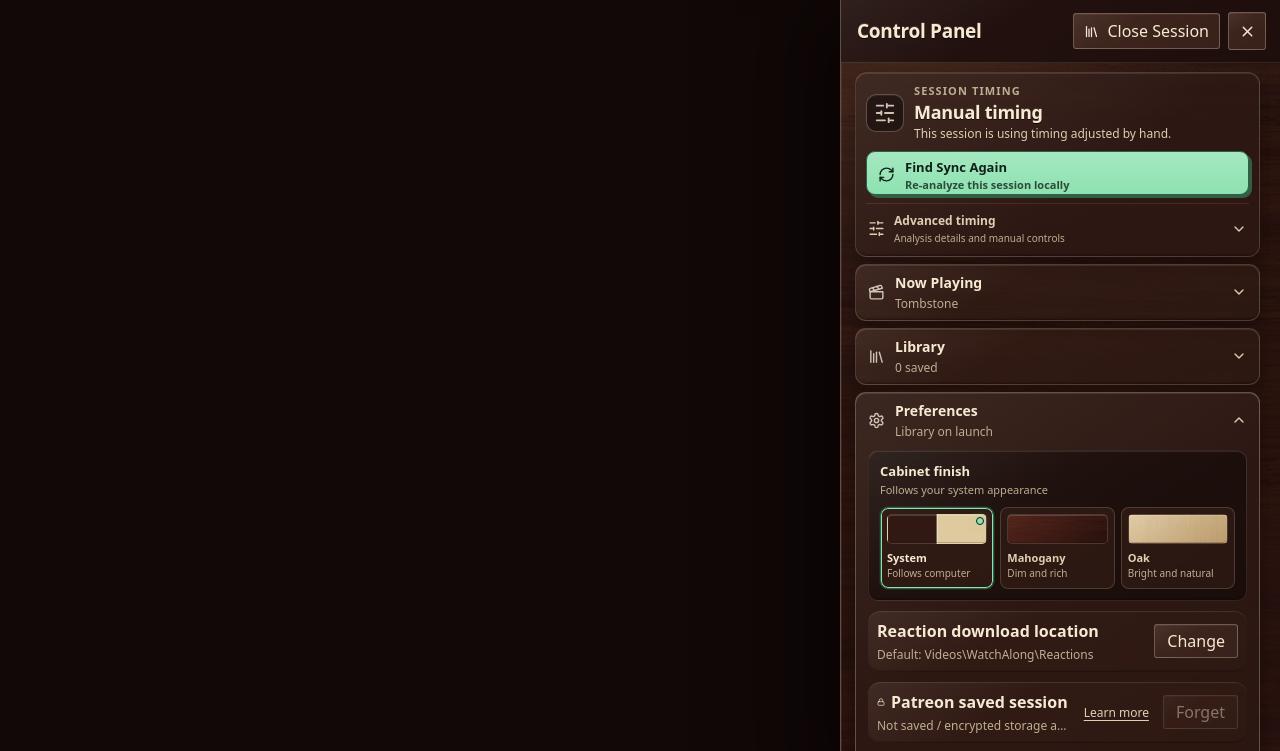
CommandPanel session timing › explains per-view library layouts and exposes Patreon details as a disclosure
Step 1. Click the button "Learn more" → (1116, 712), box [1078,697,1155,727]
(page scrolled)
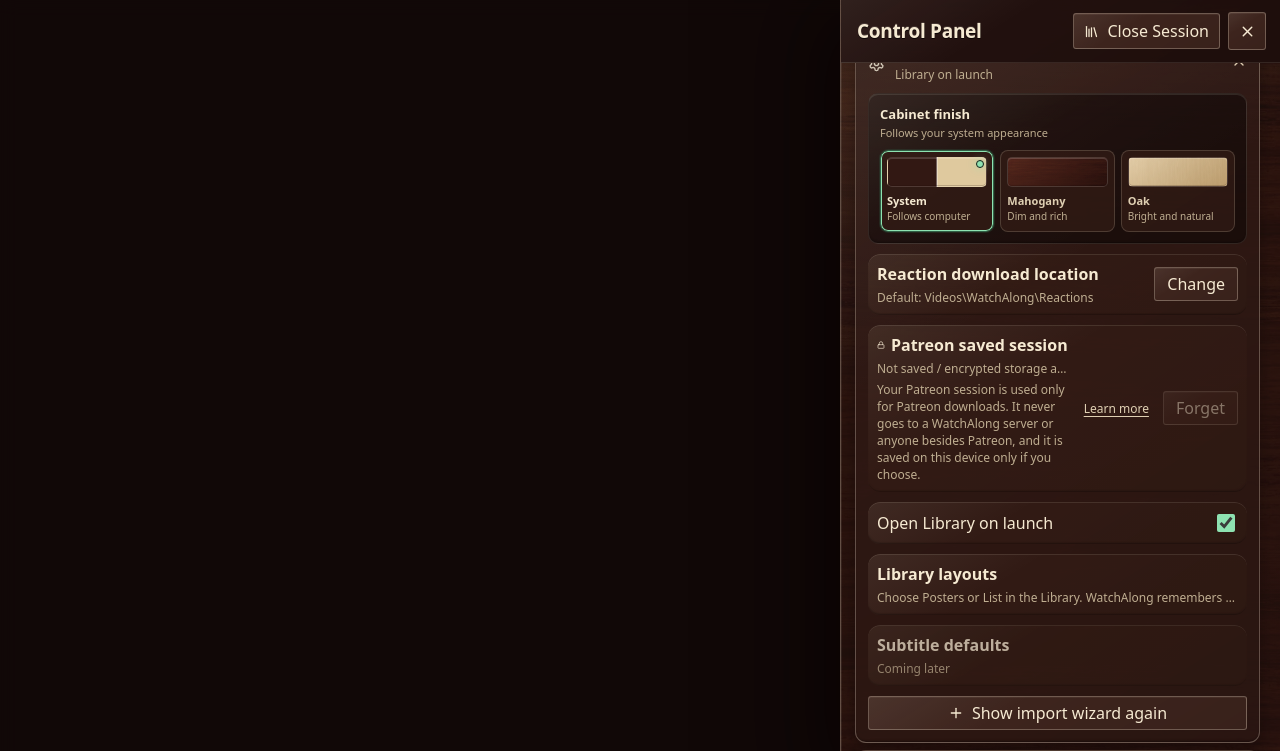
expect the button "Learn more" is expanded: met, box [1078,393,1155,423]
